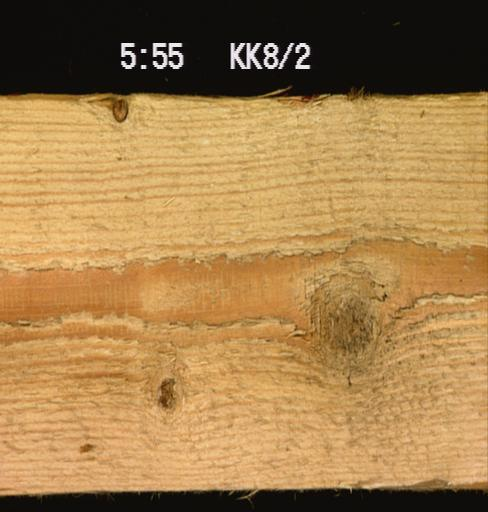dry_knot: (108, 97, 130, 123)
